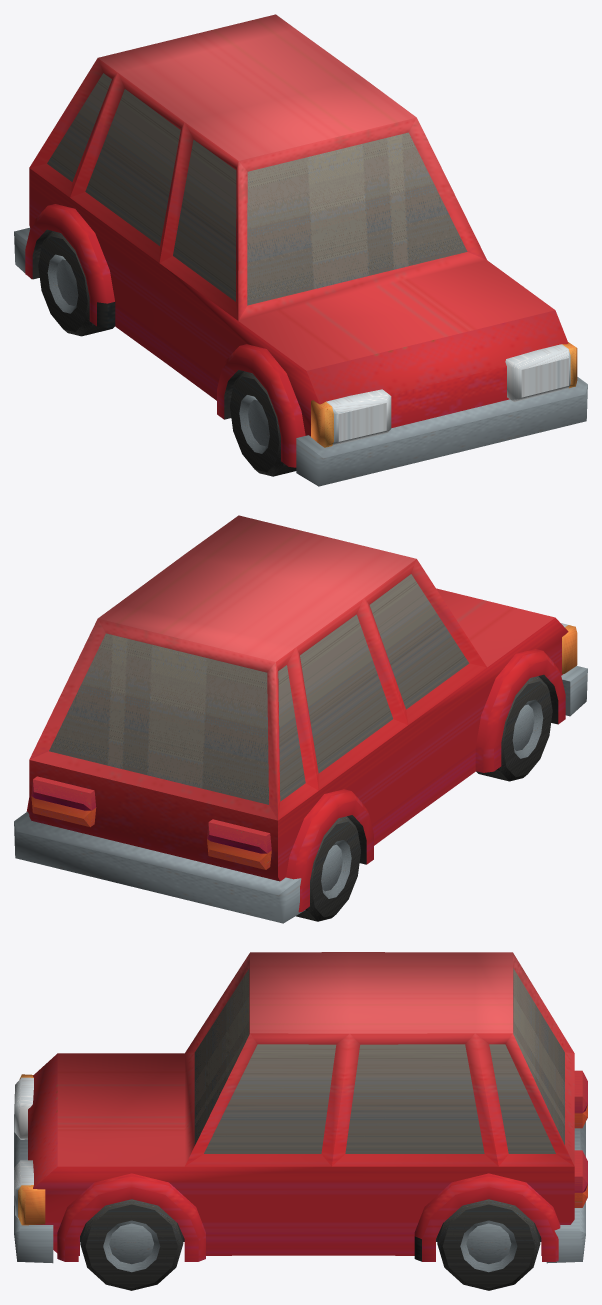
File: Car_Hatchback.fbx
3 renders of one model, top to bottom at view 1: azimuth 30°, elevation 25°; view 2: azimuth 150°, elevation 25°; view 3: azimuth 270°, elevation 25°, orthographic. The views are drawn at different scales.
Parts seen in each view (by area): view 1: car_hatchback, car_hatchback_wheel_rear_right, car_hatchback_wheel_front_right; view 2: car_hatchback, car_hatchback_wheel_front_right, car_hatchback_wheel_rear_right; view 3: car_hatchback, car_hatchback_wheel_front_left, car_hatchback_wheel_rear_left.
Boxes of the visible parts, x1,y1,x2,y2 form: car_hatchback: (14, 14, 587, 486); car_hatchback_wheel_rear_right: (38, 231, 114, 336); car_hatchback_wheel_front_right: (230, 371, 296, 476); car_hatchback: (14, 515, 587, 923); car_hatchback_wheel_front_right: (476, 676, 552, 781); car_hatchback_wheel_rear_right: (296, 816, 360, 921); car_hatchback: (14, 952, 587, 1263); car_hatchback_wheel_front_left: (80, 1199, 183, 1290); car_hatchback_wheel_rear_left: (437, 1199, 540, 1290).
Size of the model in its own units: 41.9 by 36.88 by 80.61.
